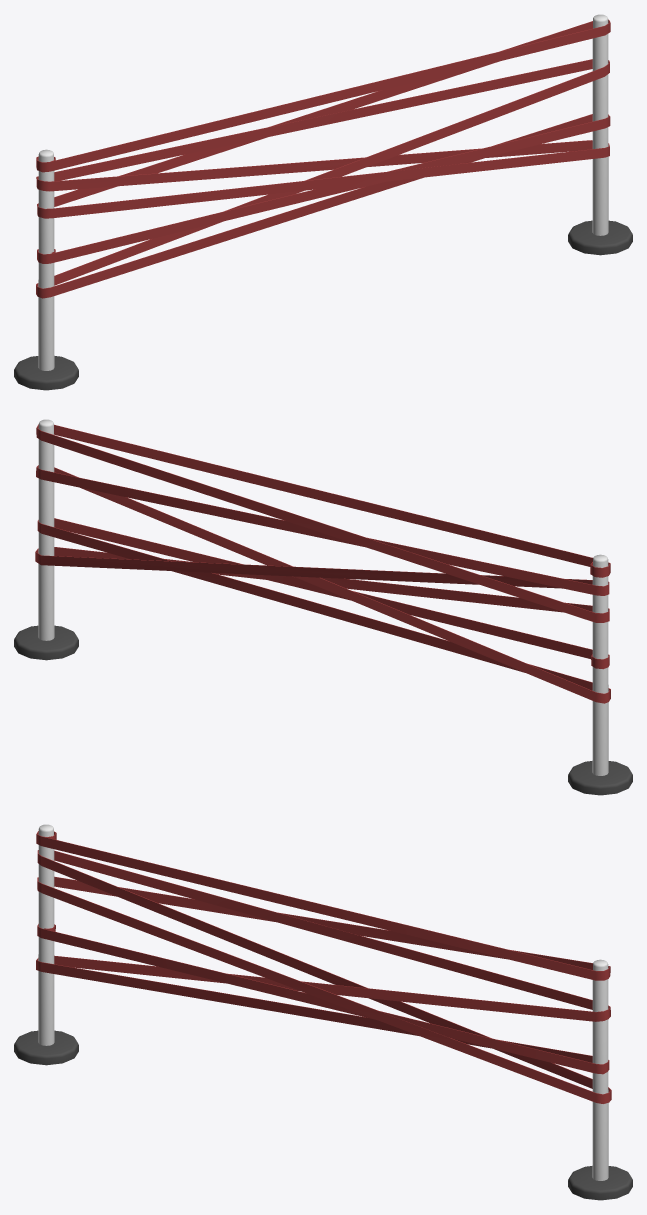
The model's file is RedTapeHurdle.fbx.
The picture shows the model from 3 angles, top to bottom: view 1: azimuth 30°, elevation 25°; view 2: azimuth 150°, elevation 25°; view 3: azimuth 330°, elevation 25°; orthographic projection.
Parts seen in each view (by area): view 1: RedTapeHurdle; view 2: RedTapeHurdle; view 3: RedTapeHurdle.
Part boxes in pixels (<box>): RedTapeHurdle: <box>14,14,632,390</box>; RedTapeHurdle: <box>14,419,632,795</box>; RedTapeHurdle: <box>14,824,632,1200</box>.
Size of the model in its own units: 5.06 by 1.78 by 0.466.
